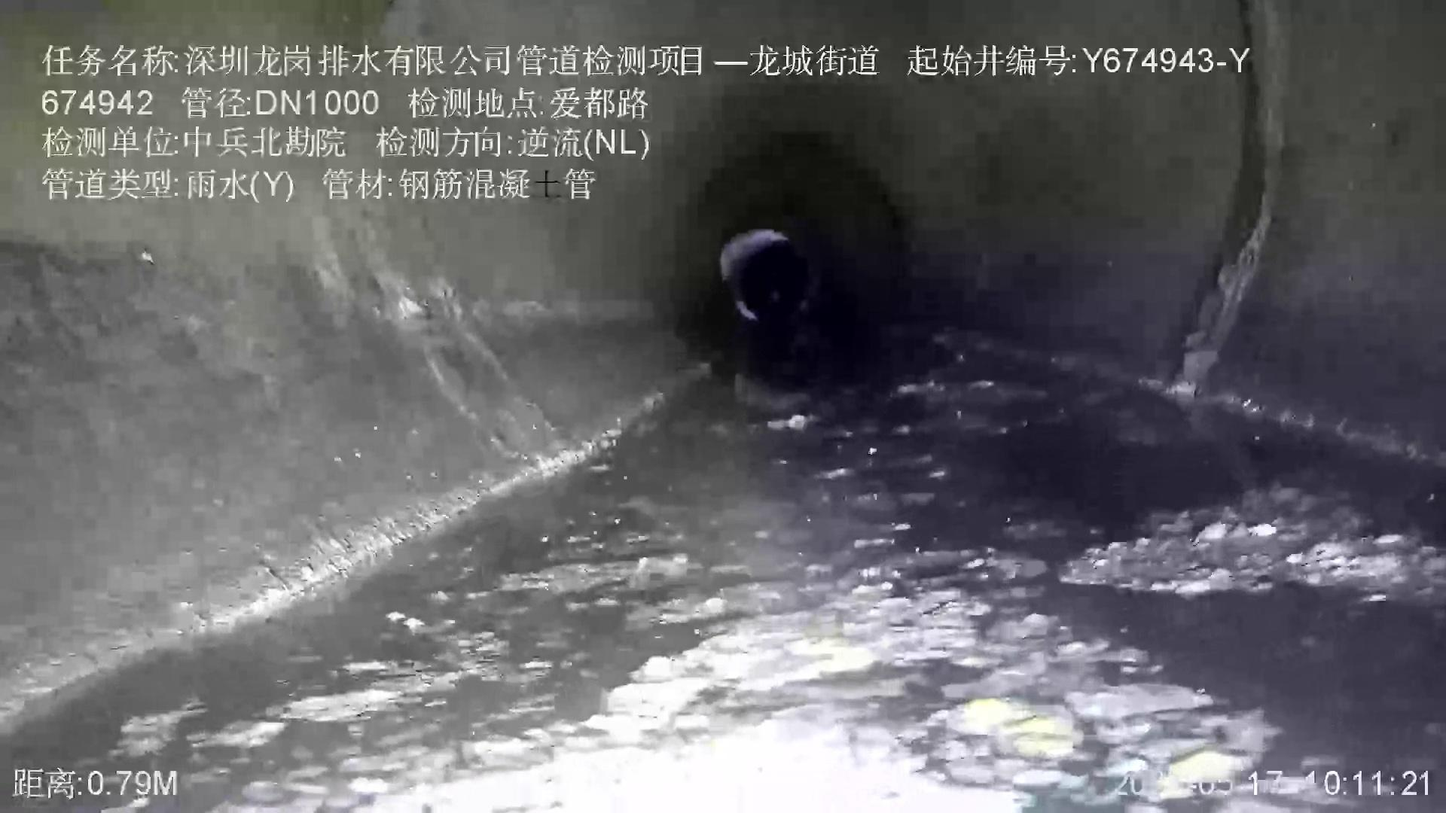FZ: (4, 332, 1445, 812)
